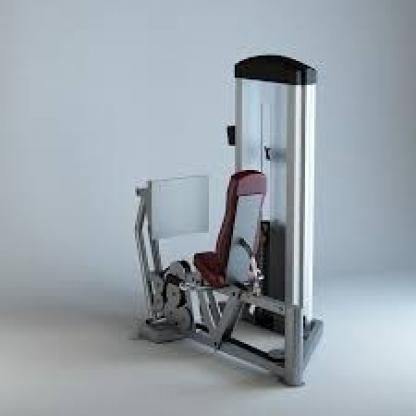leg press: (81, 38, 355, 401)
